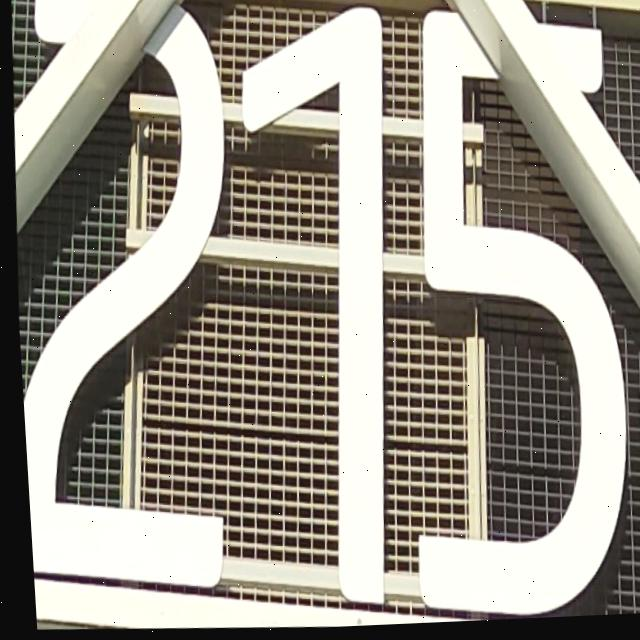character: (380, 0, 640, 623), (0, 0, 261, 602), (212, 0, 422, 619)
